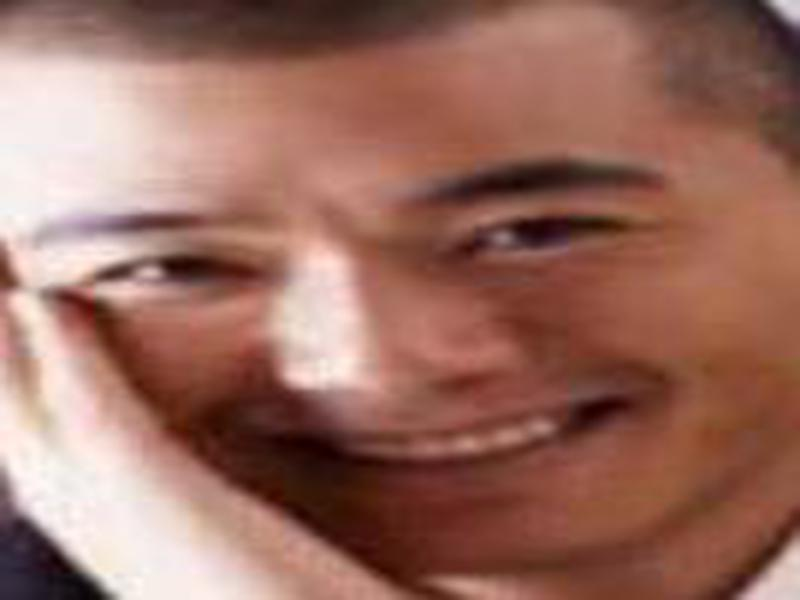without_mask: (17, 48, 759, 568)
